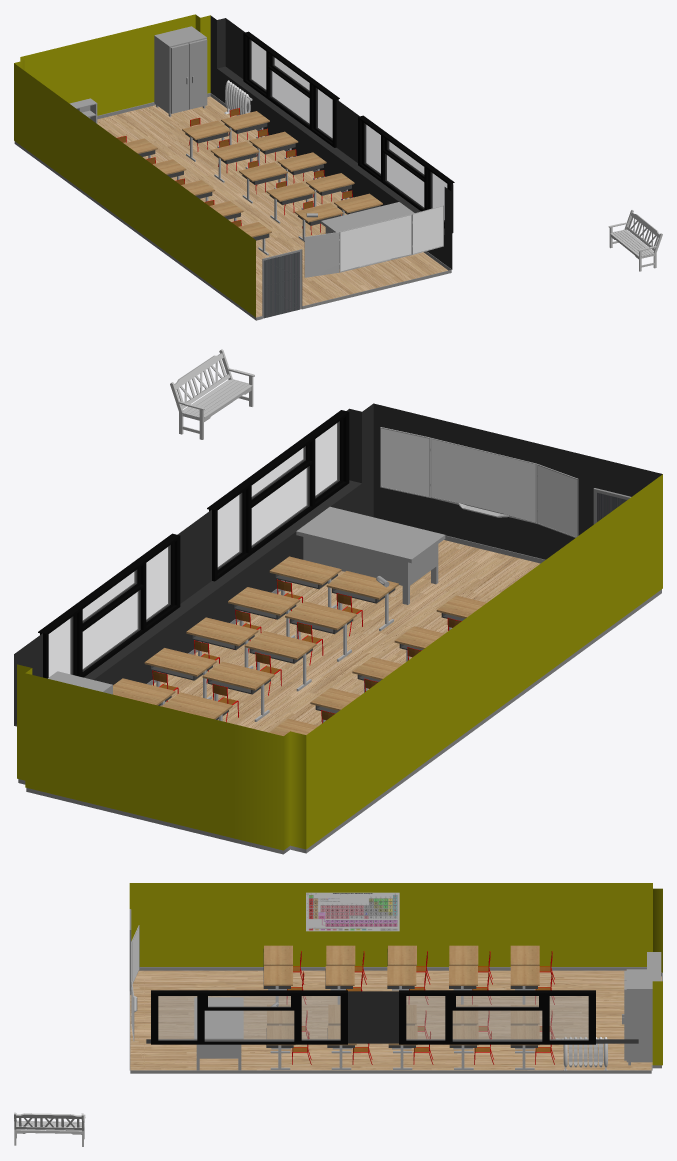
The model's file is Salle_V5.fbx.
The picture shows the model from 3 angles, top to bottom: view 1: azimuth 30°, elevation 25°; view 2: azimuth 150°, elevation 25°; view 3: azimuth 270°, elevation 25°; orthographic projection. The views are drawn at different scales.
Visible parts, largest first — view 1: Salle, Tableau1, Armoire, Banc1, Bureau_Prof, Bureau7, Bureau6, Bureau8, Bureau9, Bureau1, Bureau4, Bureau2 (+5 smaller); view 2: Salle, Tableau1, Bureau_Prof, Banc1, Bureau7, Bureau8, Bureau9, Bureau3, Bureau10, Bureau5, Bureau2, Bureau4 (+6 smaller); view 3: Salle, Tableau_Ele, Armoire, Bureau_Prof, Banc1, Chauffage, Bureau1, Bureau5, Bureau11, Bureau14, Bureau15, Bureau2 (+13 smaller).
Boxes of the visible parts, bbox=[...] form: Salle: bbox=[14, 14, 454, 320]; Tableau1: bbox=[304, 205, 443, 277]; Armoire: bbox=[154, 26, 207, 116]; Banc1: bbox=[608, 210, 662, 271]; Bureau_Prof: bbox=[321, 202, 414, 234]; Bureau7: bbox=[210, 141, 259, 182]; Bureau6: bbox=[182, 120, 230, 161]; Bureau8: bbox=[239, 162, 287, 203]; Bureau9: bbox=[266, 182, 315, 223]; Bureau1: bbox=[221, 111, 269, 144]; Bureau4: bbox=[306, 173, 354, 206]; Bureau2: bbox=[249, 131, 298, 165]; Salle: bbox=[14, 403, 662, 854]; Tableau1: bbox=[380, 427, 578, 537]; Bureau_Prof: bbox=[296, 506, 445, 604]; Banc1: bbox=[170, 349, 254, 439]; Bureau7: bbox=[202, 661, 274, 721]; Bureau8: bbox=[244, 631, 316, 691]; Bureau9: bbox=[285, 601, 356, 661]; Bureau3: bbox=[186, 617, 258, 668]; Bureau10: bbox=[326, 571, 398, 631]; Bureau5: bbox=[269, 556, 341, 608]; Bureau2: bbox=[144, 648, 216, 699]; Bureau4: bbox=[228, 587, 299, 637]; Salle: bbox=[129, 883, 662, 1073]; Tableau_Ele: bbox=[306, 892, 399, 931]; Armoire: bbox=[622, 969, 659, 1065]; Bureau_Prof: bbox=[194, 997, 243, 1070]; Banc1: bbox=[14, 1112, 85, 1146]; Chauffage: bbox=[556, 1037, 607, 1070]; Bureau1: bbox=[510, 1025, 539, 1069]; Bureau5: bbox=[266, 1025, 295, 1069]; Bureau11: bbox=[510, 966, 539, 1004]; Bureau14: bbox=[325, 966, 354, 1004]; Bureau15: bbox=[263, 966, 292, 1002]; Bureau2: bbox=[449, 1025, 478, 1069].
Size of what is drawn, in the model's own units: 1325 by 288 by 1935.
